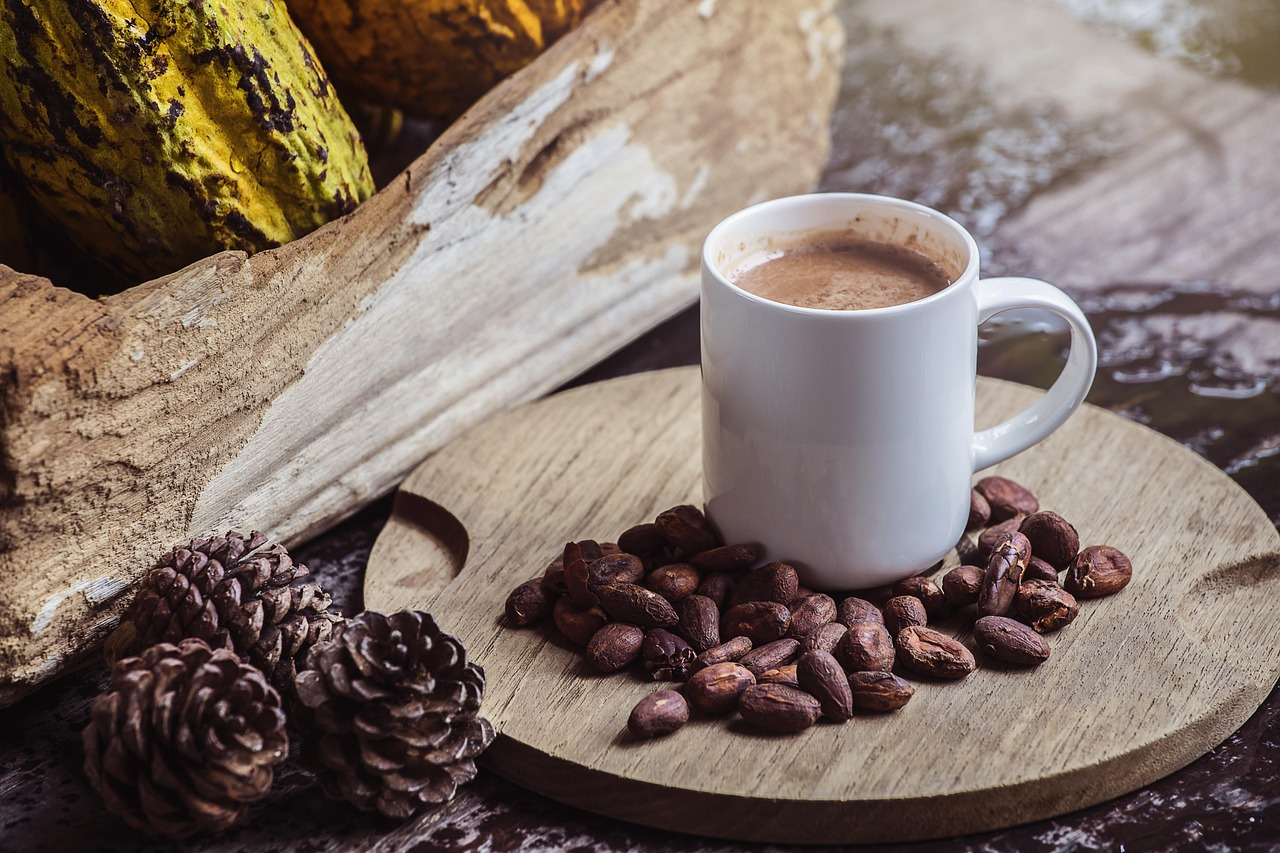mug: (680, 190, 1100, 590)
